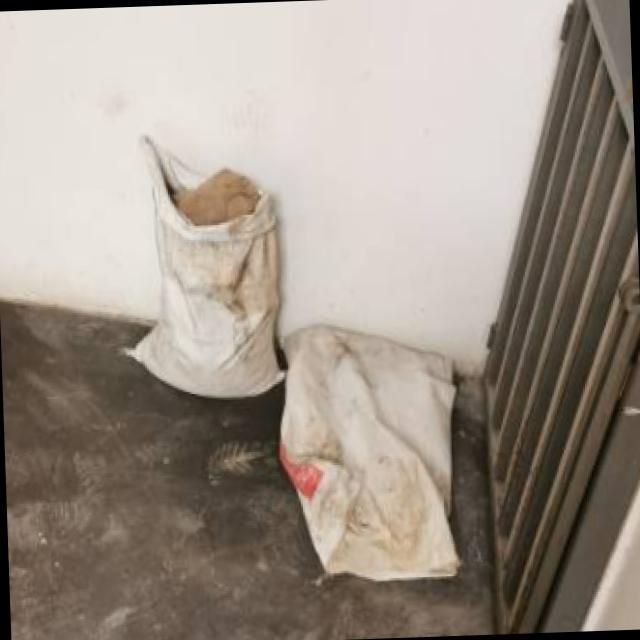KantongSemen: (274, 318, 466, 592), (120, 125, 286, 404)
